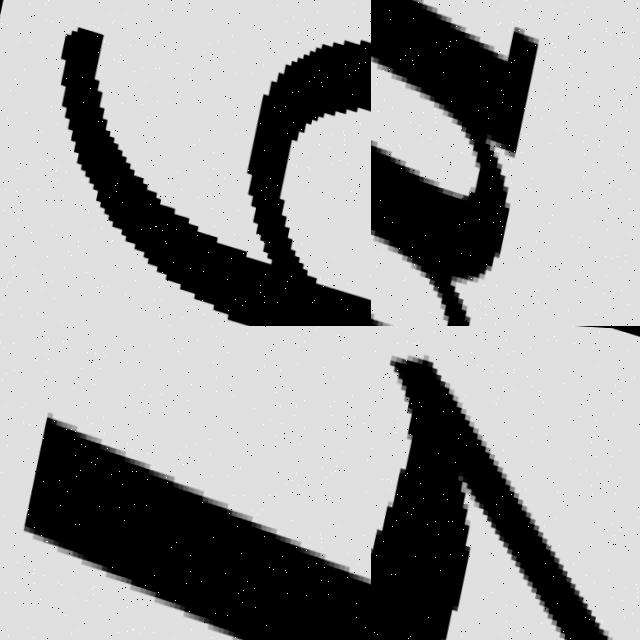9: (0, 0, 371, 326)
I: (0, 422, 371, 640)
M: (371, 0, 590, 326)
Z: (371, 330, 640, 640)
